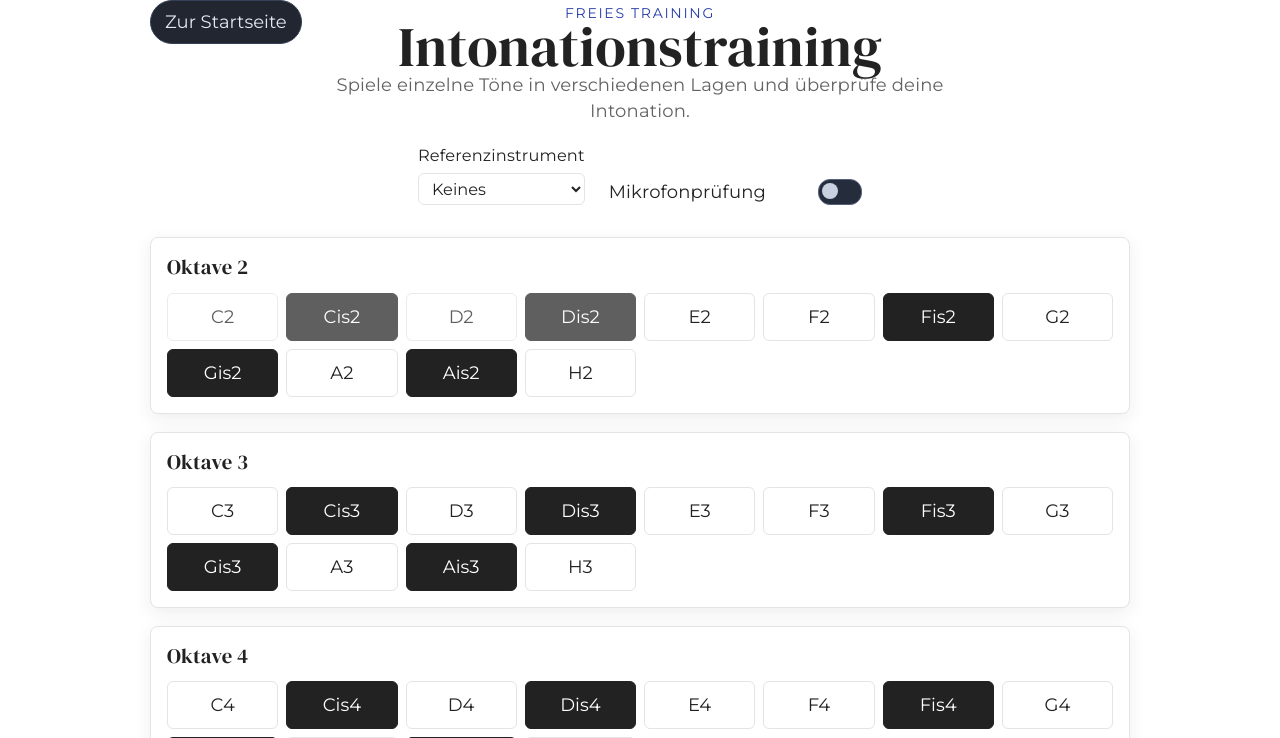
Test: IntonationTrainingPage › bietet standardmäßig kein Referenzinstrument und keine Mikrofonprüfung an
The image size is (1280, 738).
Expected: the dropdown labelled "Referenzinstrument" shows "Keines", [418,174,585,206]
Click the checkbox labelled "Mikrofonprüfung". click: coordinates (735, 192)
box: [609,179,862,206]
(page scrolled)
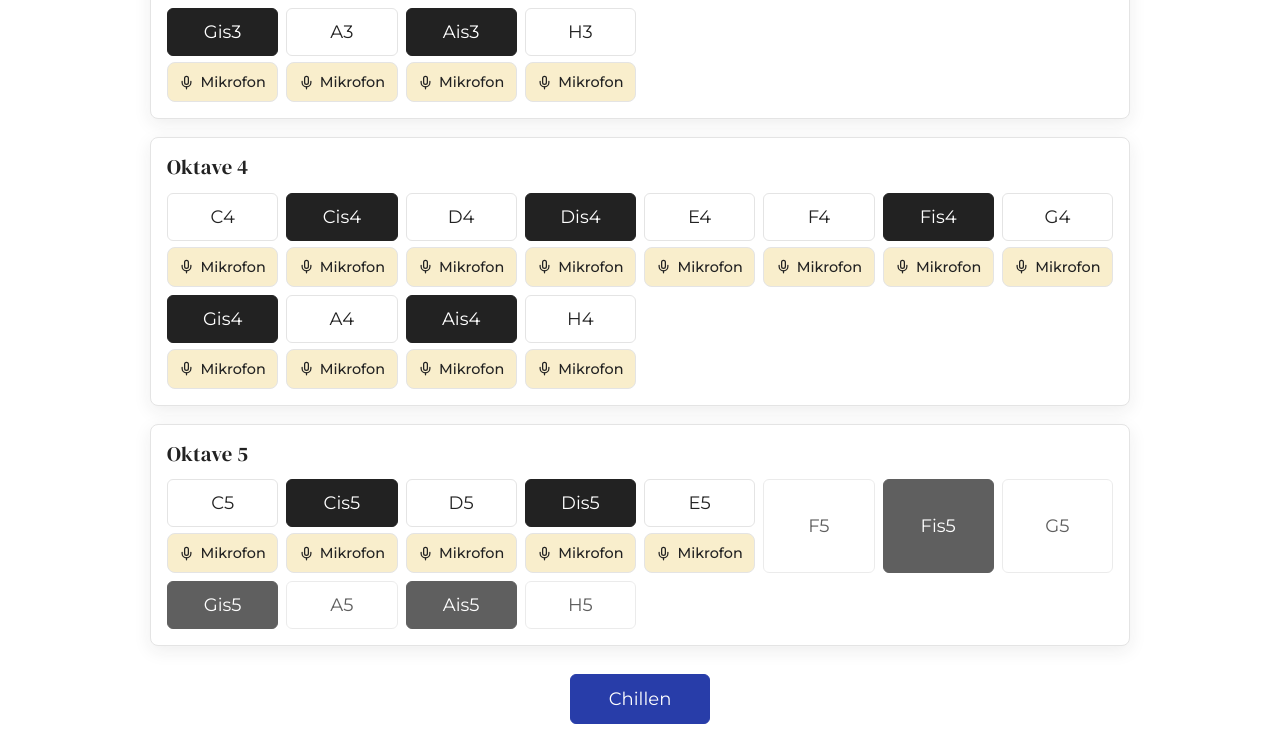
Expected: the button with aria-label "Mikrofon starten für A4" is shown, [286,349,398,389]
